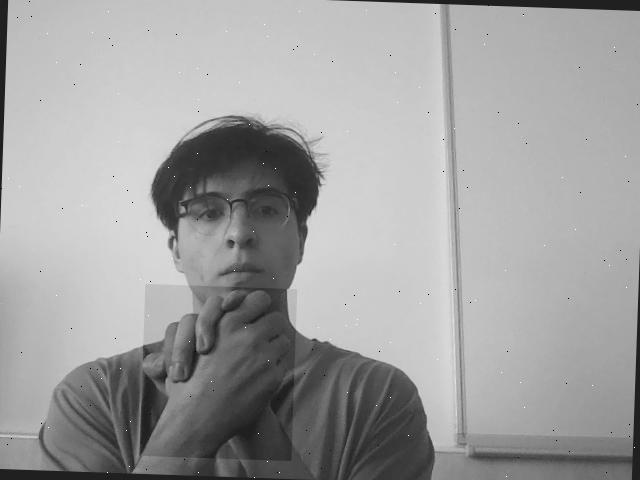friend: (143, 288, 292, 459)
